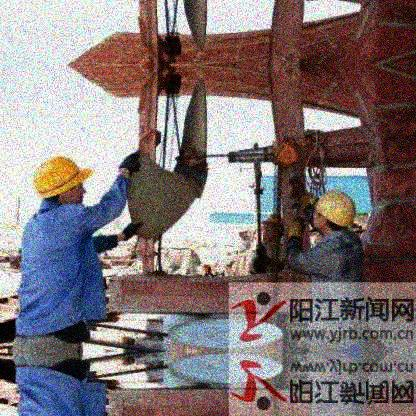helmet: (33, 157, 94, 210), (310, 188, 357, 241)
